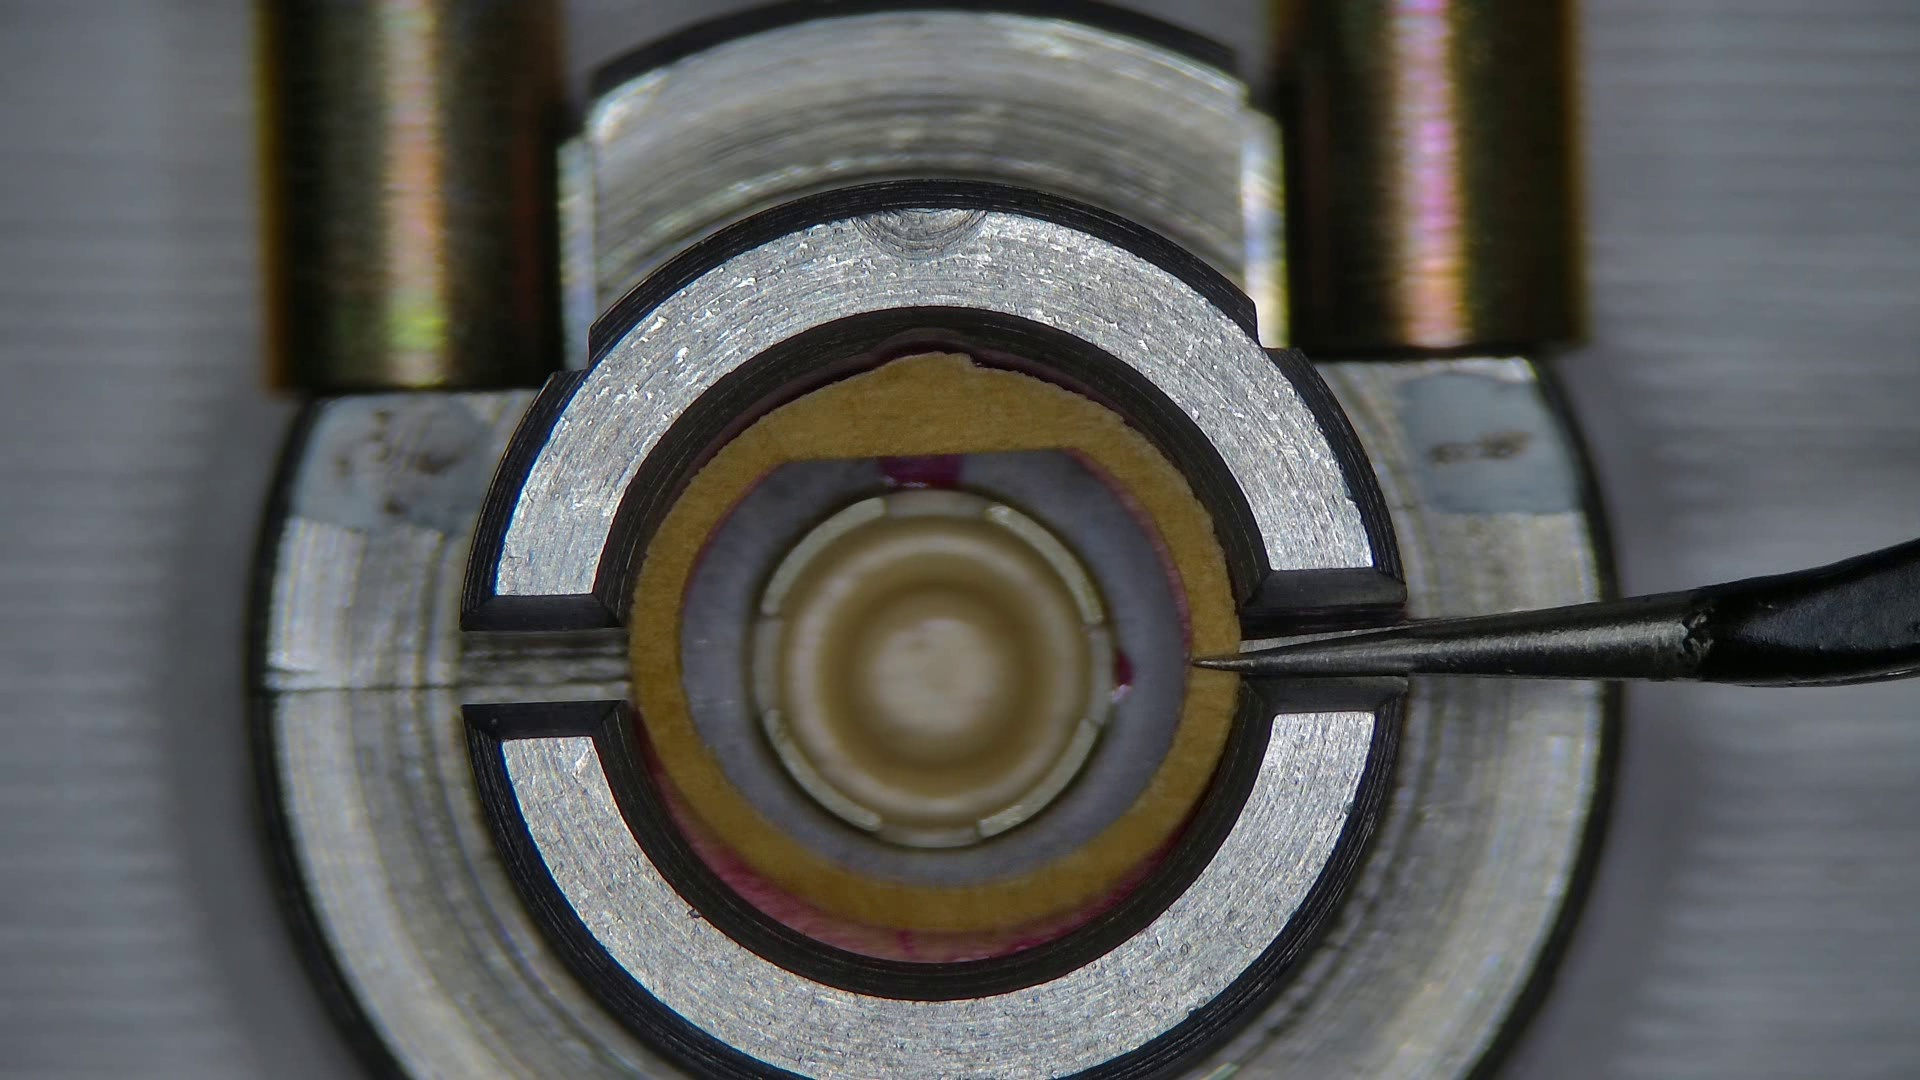GreyOring: (661, 779, 1102, 963), (657, 771, 659, 775)
YellowOring: (680, 454, 1183, 884)
redOring: (632, 352, 1240, 926)
